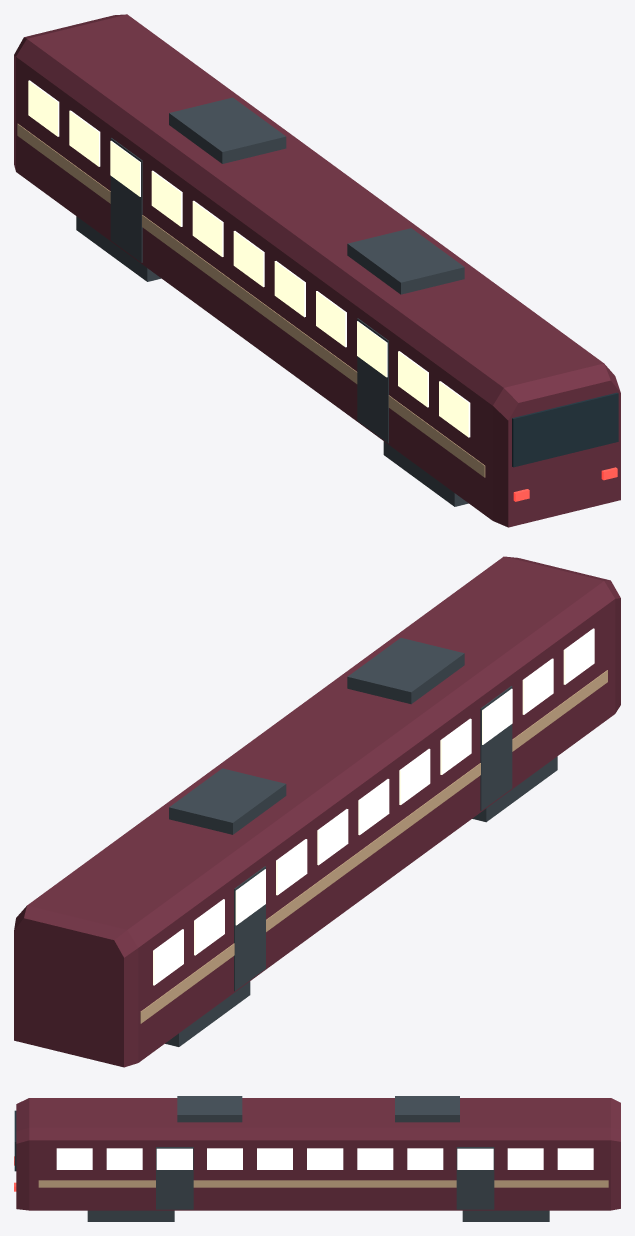
Rendered from private-tail.glb.
3 renders of one model, top to bottom at view 1: azimuth 30°, elevation 25°; view 2: azimuth 150°, elevation 25°; view 3: azimuth 270°, elevation 25°, orthographic. The views are drawn at different scales.
Bounding box in the file's own units: 2.87 × 3.6 × 19.57.
